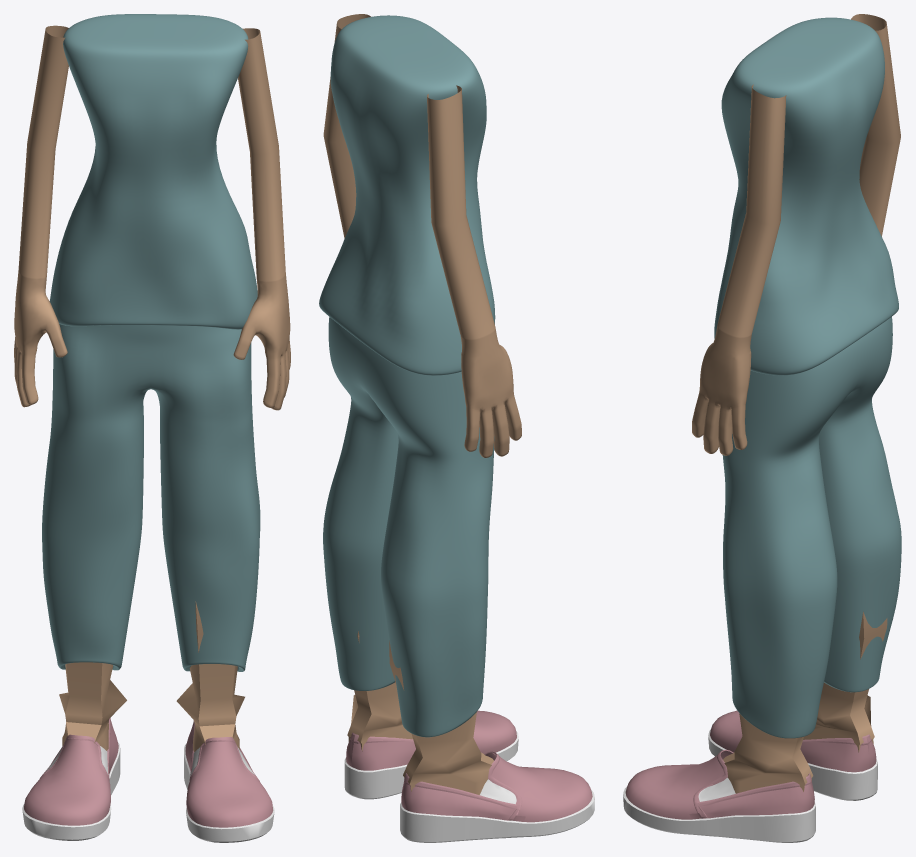
Rendered from M_Mujer parada.fbx.
The picture shows the model from 3 angles, left to right: view 1: azimuth 30°, elevation 25°; view 2: azimuth 150°, elevation 25°; view 3: azimuth 270°, elevation 25°; orthographic projection.
Visible parts, largest first — view 1: M_Doctora_v2:Pantalon, M_Doctora_v2:Torso, M_Doctora_v2:Mano2, M_Doctora_v2:Mano1, M_Doctora_v2:pCube2 (×2), M_Doctora_v2:Zapato, M_Doctora_v2:Zapato1; view 2: M_Doctora_v2:Pantalon, M_Doctora_v2:Torso, M_Doctora_v2:Mano1, M_Doctora_v2:Zapato, M_Doctora_v2:pCube2 (×2), M_Doctora_v2:Zapato1, M_Doctora_v2:Mano2; view 3: M_Doctora_v2:Pantalon, M_Doctora_v2:Torso, M_Doctora_v2:Mano2, M_Doctora_v2:Zapato1, M_Doctora_v2:pCube2 (×2), M_Doctora_v2:Zapato, M_Doctora_v2:Mano1.
Part boxes in pixels (<box>): M_Doctora_v2:Pantalon: <box>42,324,260,671</box>; M_Doctora_v2:Torso: <box>49,14,257,329</box>; M_Doctora_v2:Mano2: <box>233,28,290,410</box>; M_Doctora_v2:Mano1: <box>14,25,68,407</box>; M_Doctora_v2:pCube2 (×2): <box>59,601,244,751</box>; M_Doctora_v2:Zapato: <box>22,718,120,840</box>; M_Doctora_v2:Zapato1: <box>184,720,274,842</box>; M_Doctora_v2:Pantalon: <box>323,317,494,737</box>; M_Doctora_v2:Torso: <box>319,15,495,375</box>; M_Doctora_v2:Mano1: <box>427,85,521,457</box>; M_Doctora_v2:Zapato: <box>400,751,594,842</box>; M_Doctora_v2:pCube2 (×2): <box>347,631,493,794</box>; M_Doctora_v2:Zapato1: <box>344,710,518,799</box>; M_Doctora_v2:Mano2: <box>323,14,370,238</box>; M_Doctora_v2:Pantalon: <box>722,317,901,738</box>; M_Doctora_v2:Torso: <box>714,17,898,375</box>; M_Doctora_v2:Mano2: <box>692,84,786,455</box>; M_Doctora_v2:Zapato1: <box>623,749,815,842</box>; M_Doctora_v2:pCube2 (×2): <box>723,612,887,793</box>; M_Doctora_v2:Zapato: <box>708,710,877,800</box>; M_Doctora_v2:Mano1: <box>851,14,900,236</box>.
Bounding box in the file's own units: 6.99 × 19.65 × 6.5.
